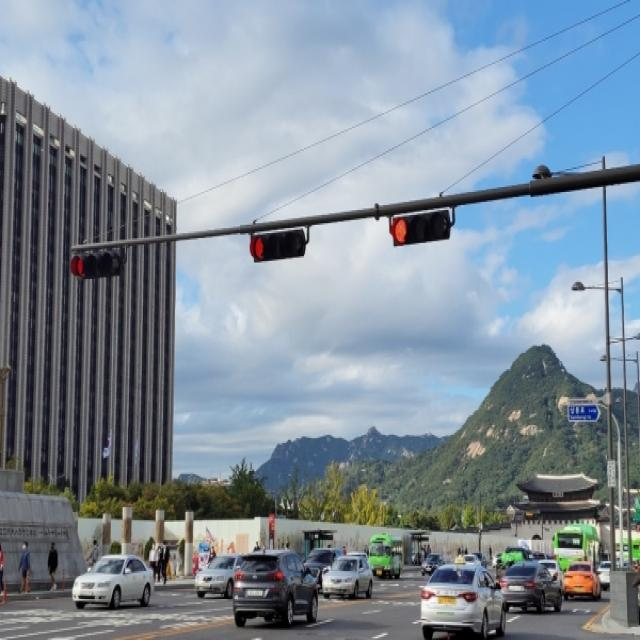red_light: (246, 237, 314, 273), (380, 214, 456, 246), (69, 249, 131, 280)
